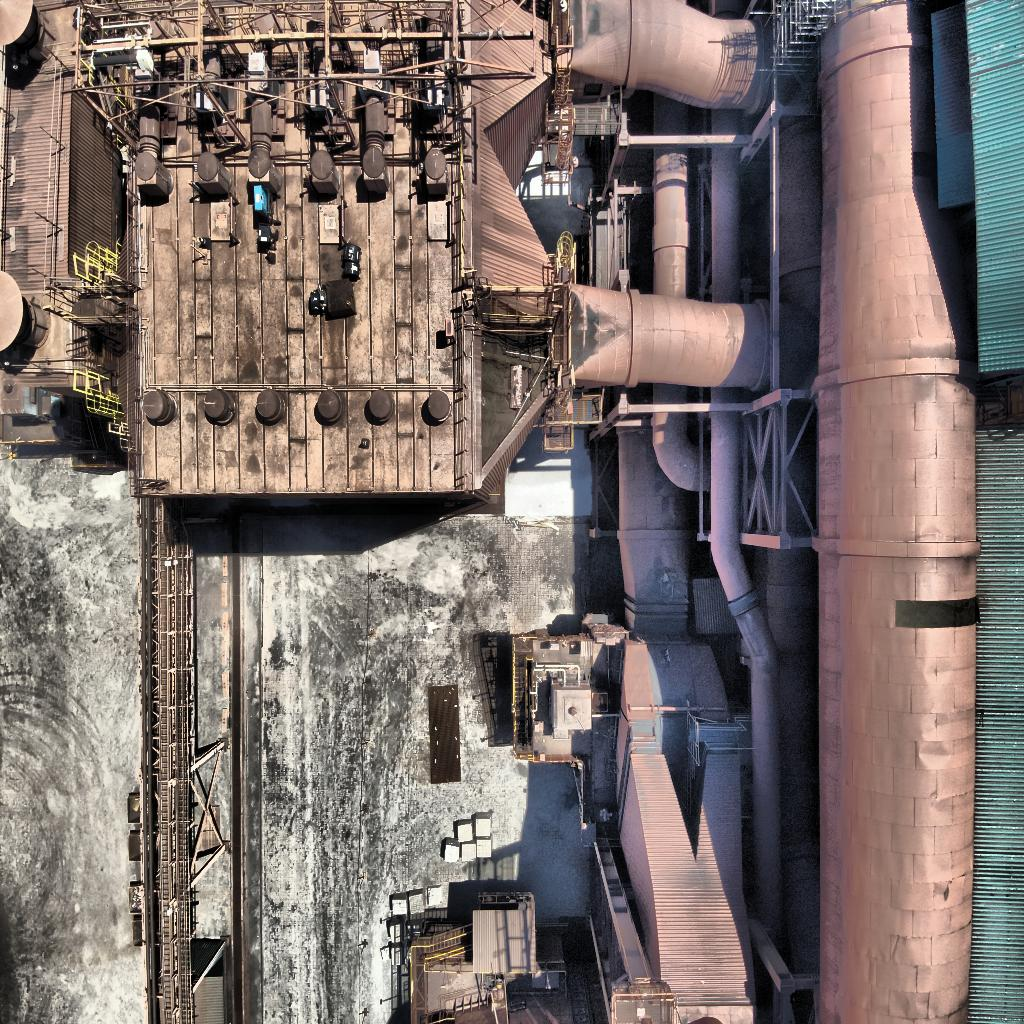Failures: (478, 309, 552, 471), (895, 595, 983, 632)
